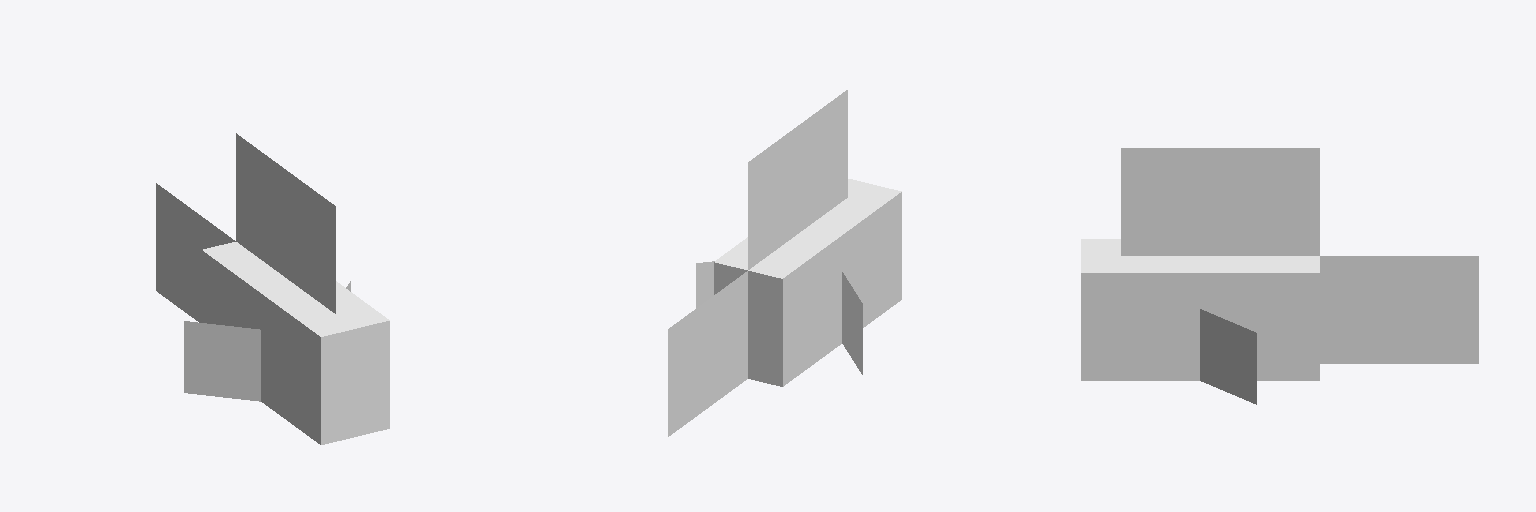
File: TropicalSmallBody.obj
The picture shows the model from 3 angles: view 1: azimuth 30°, elevation 25°; view 2: azimuth 150°, elevation 25°; view 3: azimuth 270°, elevation 25°; orthographic projection.
Visible parts, largest first — view 1: TropicalSmallBody; view 2: TropicalSmallBody; view 3: TropicalSmallBody.
Part boxes in pixels (left/top/right/bottom): TropicalSmallBody: left=156, top=133, right=389, bottom=444; TropicalSmallBody: left=668, top=90, right=901, bottom=436; TropicalSmallBody: left=1081, top=148, right=1478, bottom=404.
Size of the model in its own units: 4.83 by 6 by 10.